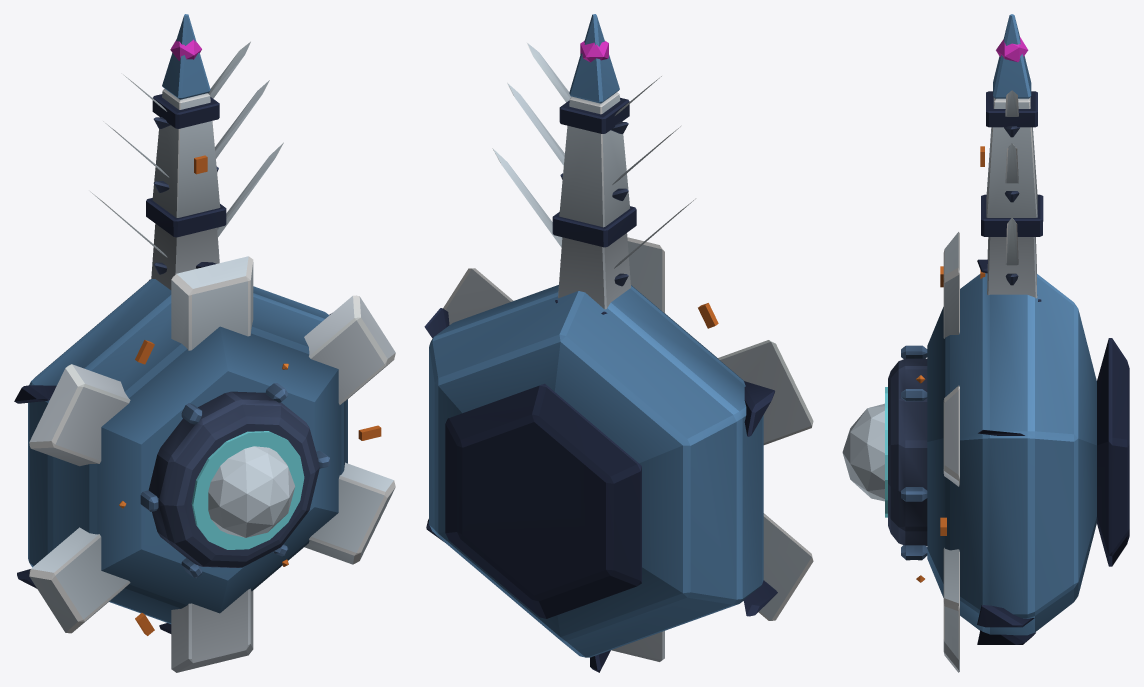
Rendered from snowflake.glb.
The picture shows the model from 3 angles, left to right: view 1: azimuth 30°, elevation 25°; view 2: azimuth 150°, elevation 25°; view 3: azimuth 270°, elevation 25°; orthographic projection. The views are drawn at different scales.
Visible parts, largest first — view 1: snowflake_hub_body, snowflake_arm_body, snowflake_hub_glow, snowflake_arm_glow; view 2: snowflake_hub_body, snowflake_arm_body; view 3: snowflake_hub_body, snowflake_arm_body, snowflake_hub_glow, snowflake_arm_glow.
Boxes of the visible parts, <box> form: snowflake_hub_body: <box>14,256,395,672</box>; snowflake_arm_body: <box>89,14,283,289</box>; snowflake_hub_glow: <box>135,340,381,635</box>; snowflake_arm_glow: <box>170,39,207,174</box>; snowflake_hub_body: <box>424,237,813,672</box>; snowflake_arm_body: <box>492,14,696,314</box>; snowflake_hub_body: <box>888,232,1129,672</box>; snowflake_arm_body: <box>981,14,1043,301</box>; snowflake_hub_glow: <box>842,266,946,535</box>; snowflake_arm_glow: <box>980,37,1028,278</box>.
Bounding box in the file's own units: 13.18 × 21.65 × 8.8.
